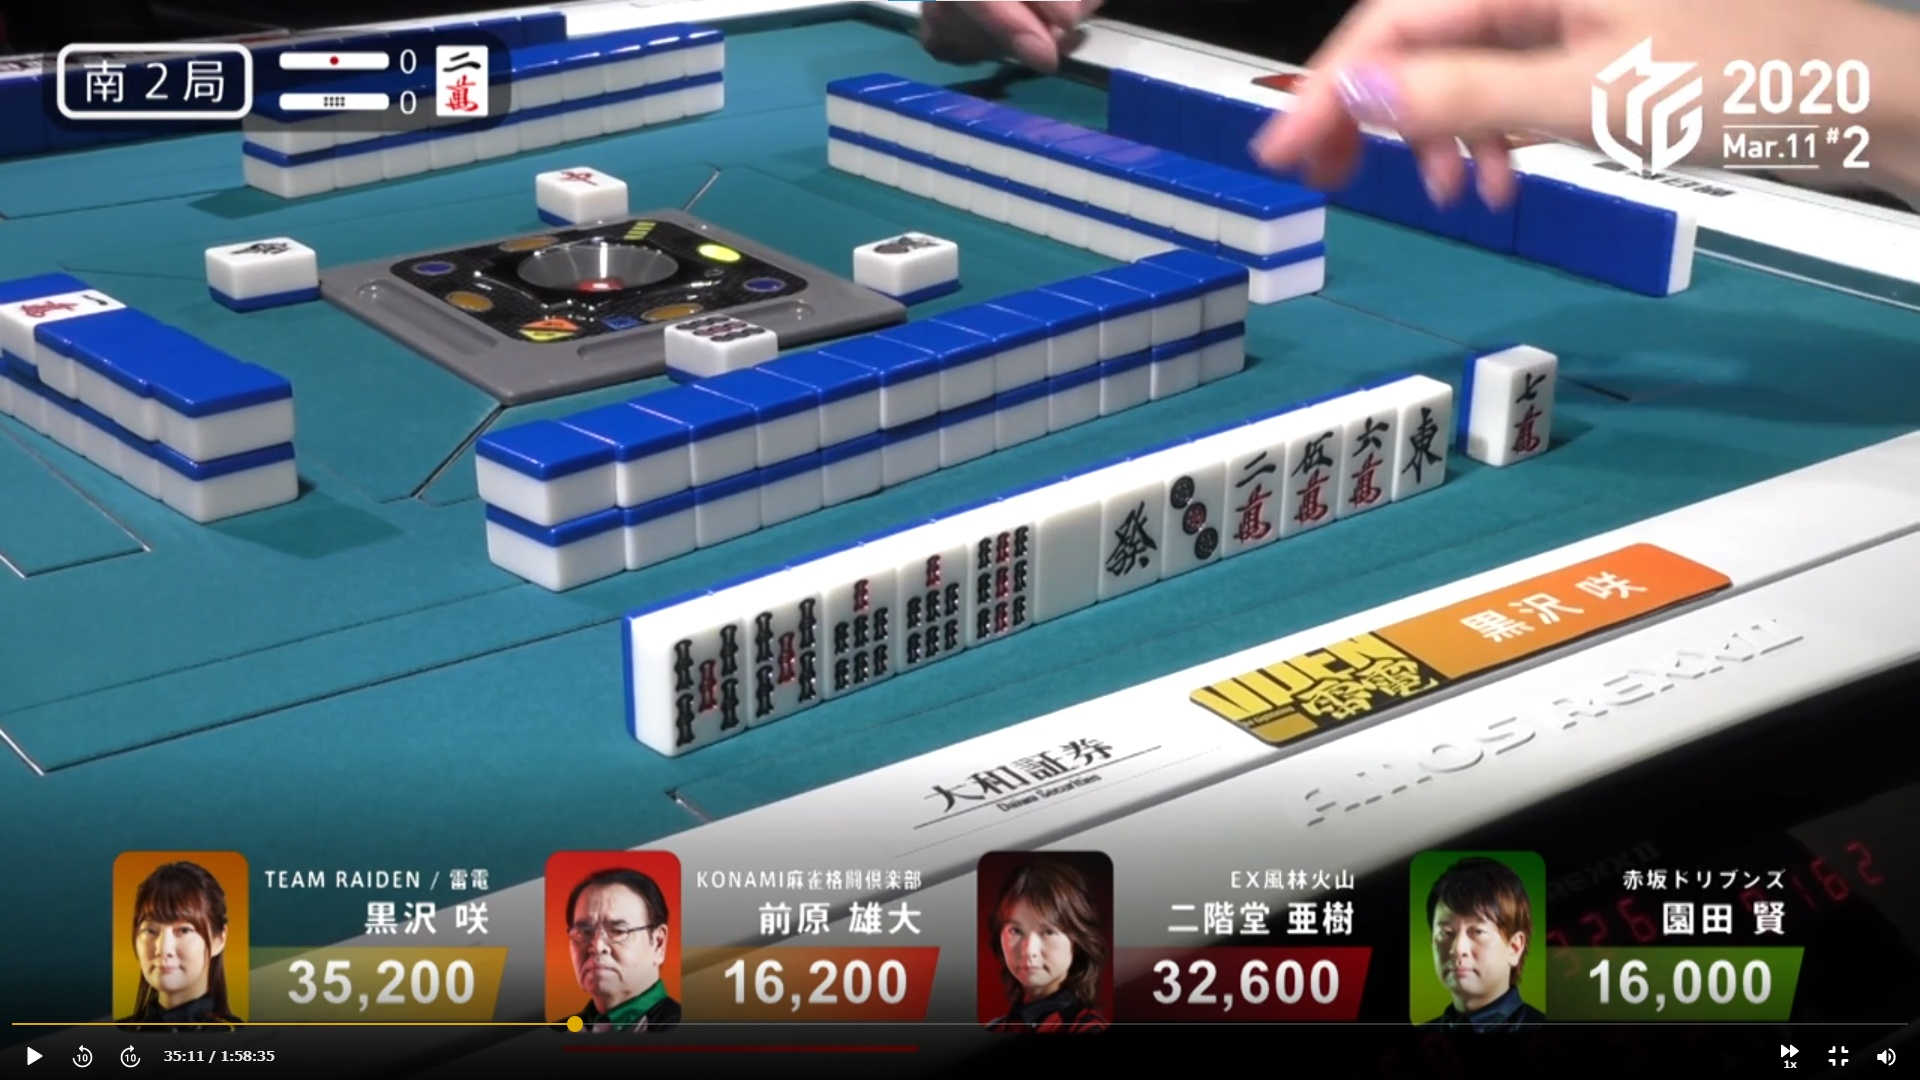2m: (1226, 447, 1280, 550)
3p: (1164, 469, 1224, 570)
5m: (1290, 423, 1335, 531)
5s: (669, 618, 744, 742), (748, 595, 819, 713)
6m: (1340, 409, 1389, 514)
7m: (1503, 363, 1545, 460)
7s: (899, 549, 968, 665), (825, 571, 891, 687)
9s: (968, 525, 1034, 637)
haku: (1034, 485, 1100, 620)
hand_nan_2: (51, 36, 258, 123)
hatsu: (1101, 480, 1159, 592)
round_0: (270, 84, 419, 119)
team_raiden: (1189, 620, 1447, 742)
ton: (1393, 393, 1445, 497)
